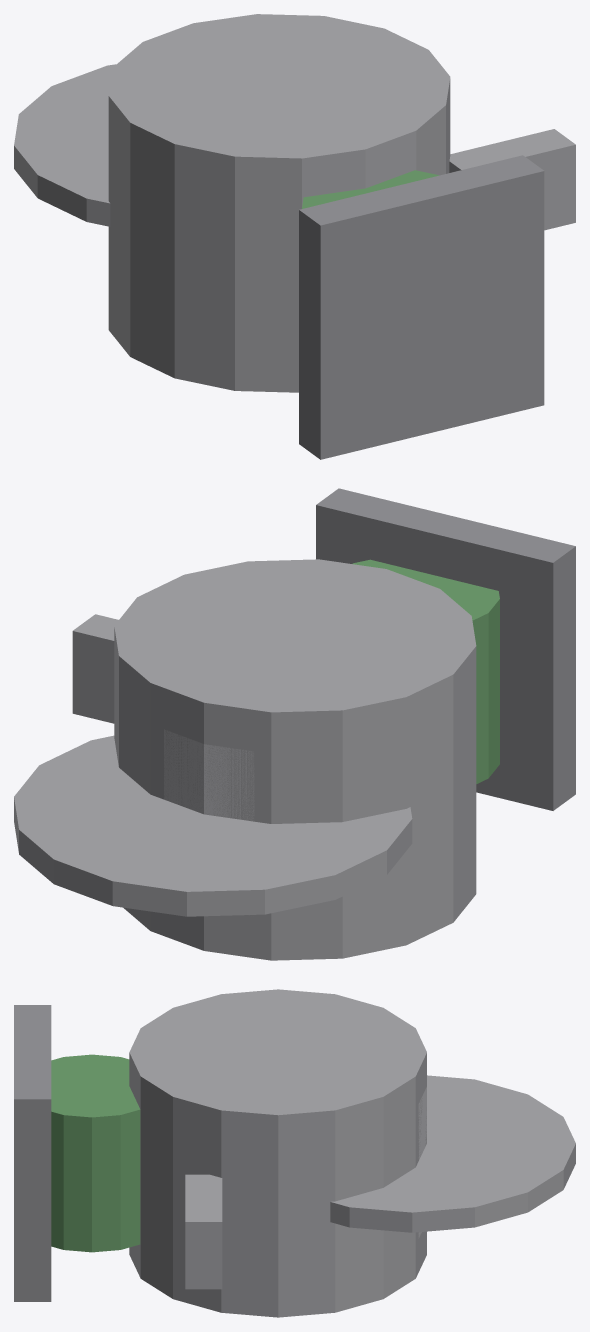
File: centrifuge.glb
The picture shows the model from 3 angles, top to bottom: view 1: azimuth 30°, elevation 25°; view 2: azimuth 150°, elevation 25°; view 3: azimuth 270°, elevation 25°; orthographic projection. The views are drawn at different scales.
Parts seen in each view (by area): view 1: Housing, Base, Lid, Chute, Motor; view 2: Housing, Lid, Base, Basket, Motor, Chute; view 3: Housing, Lid, Motor, Base, Chute, Basket.
Boxes of the visible parts, x1,y1,x2,y2 form: Housing: (108,14,450,392); Base: (299,155,544,459); Lid: (14,64,115,226); Chute: (449,129,575,230); Motor: (302,170,439,208); Housing: (114,559,476,960); Lid: (14,735,412,916); Base: (316,488,575,810); Basket: (164,729,254,915); Motor: (352,559,499,783); Chute: (72,614,118,723); Housing: (129,989,426,1317); Lid: (330,1075,575,1232); Motor: (51,1054,140,1252); Base: (14,1005,51,1301); Chute: (185,1174,222,1289); Basket: (418,1087,426,1238).
Bounding box in the file's own units: 5.45 × 3 × 7.55.
